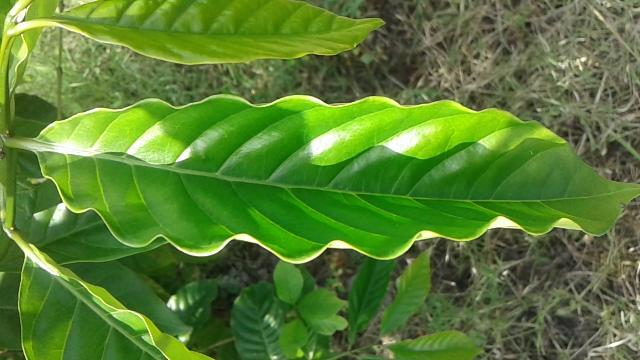healthy: (34, 91, 640, 268)
